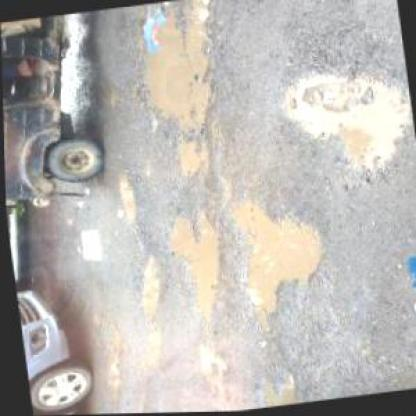pothole: (266, 53, 416, 187), (219, 186, 333, 319), (158, 206, 226, 326), (126, 257, 162, 320), (166, 132, 210, 180), (251, 369, 300, 408), (110, 171, 138, 226)
